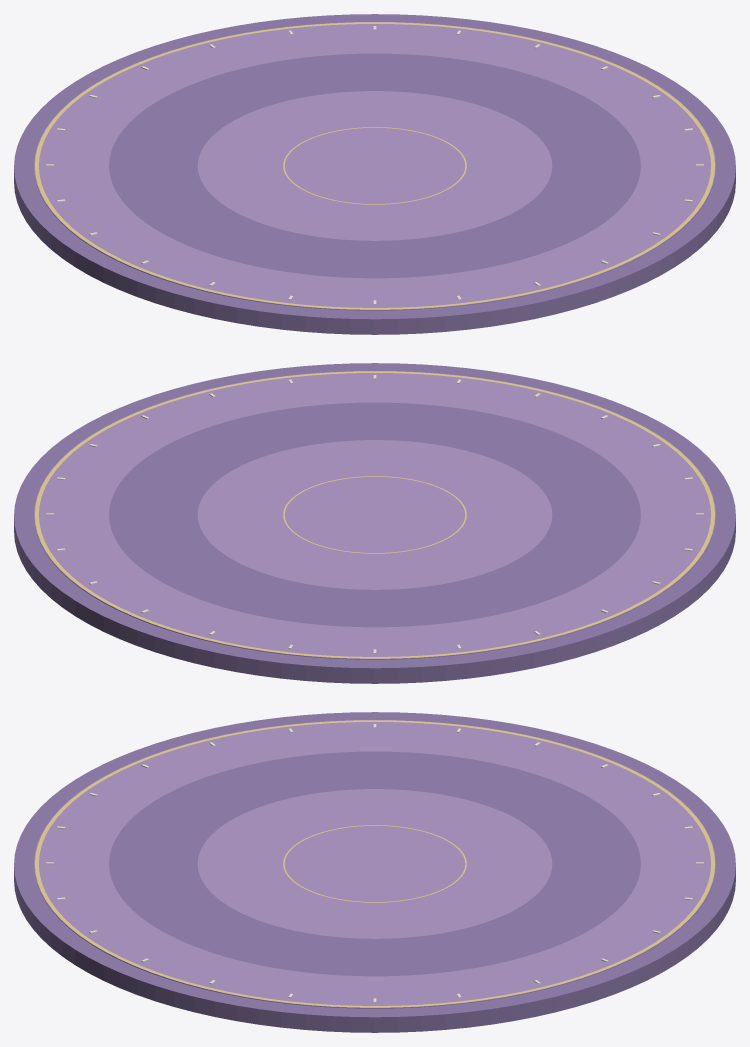
File: arena.glb
3 views of the same model, one above another, from view 1: azimuth 30°, elevation 25°; view 2: azimuth 150°, elevation 25°; view 3: azimuth 270°, elevation 25° (orthographic).
Visible parts, largest first — view 1: arena; view 2: arena; view 3: arena.
Boxes of the visible parts, <box> form: arena: <box>14,14,735,334</box>; arena: <box>14,363,735,683</box>; arena: <box>14,712,735,1032</box>.
Bounding box in the file's own units: 18 × 0.4805 × 18.
